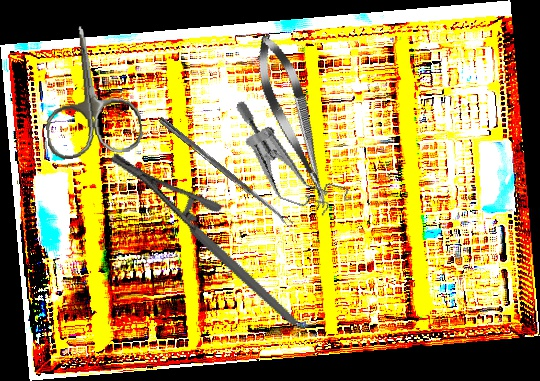Iris Scissors: (34, 19, 145, 162)
Micro Scissor: (246, 29, 342, 215)
Needle Holder: (107, 113, 299, 366)
Speculum: (210, 98, 372, 226)
Surgical Spoon: (157, 116, 294, 229)
